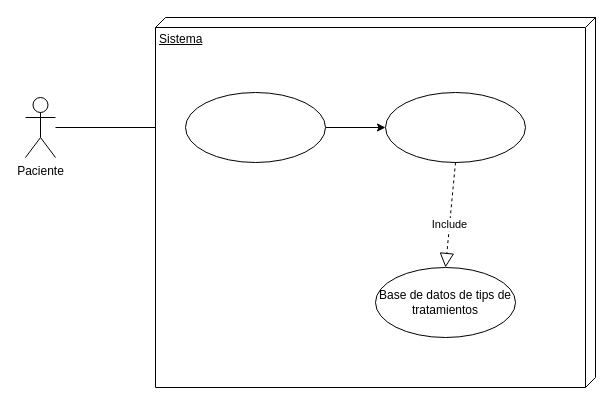
The diagram is 613 pixels wide and 405 high, and some of its shapes have lost their labels. Here are the shapes that lost their labels. From the top down, the box of each, then its label:
(184, 92, 326, 162): Visualizar tips del tratamiento
(384, 92, 526, 162): Sugerencias de tratamiento
